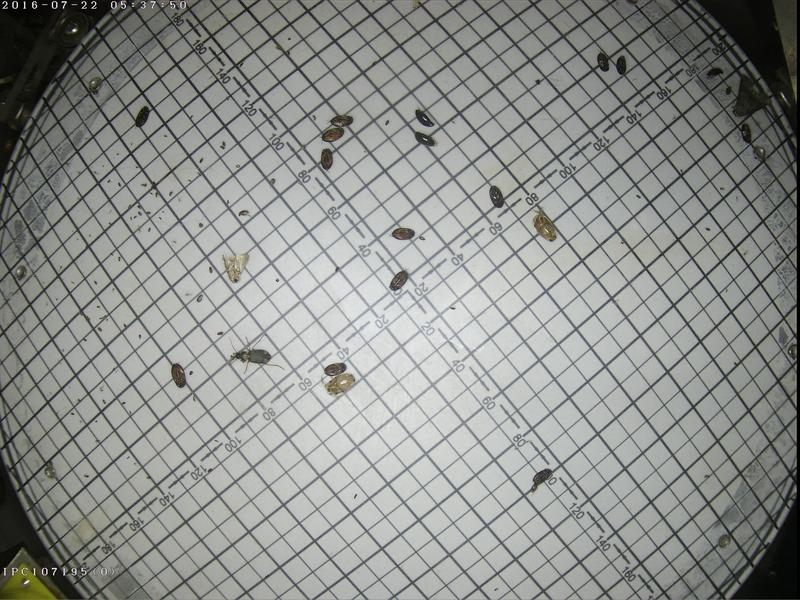Little Gecko: (731, 72, 769, 118)
Spodoptera exigua: (216, 252, 248, 282)
